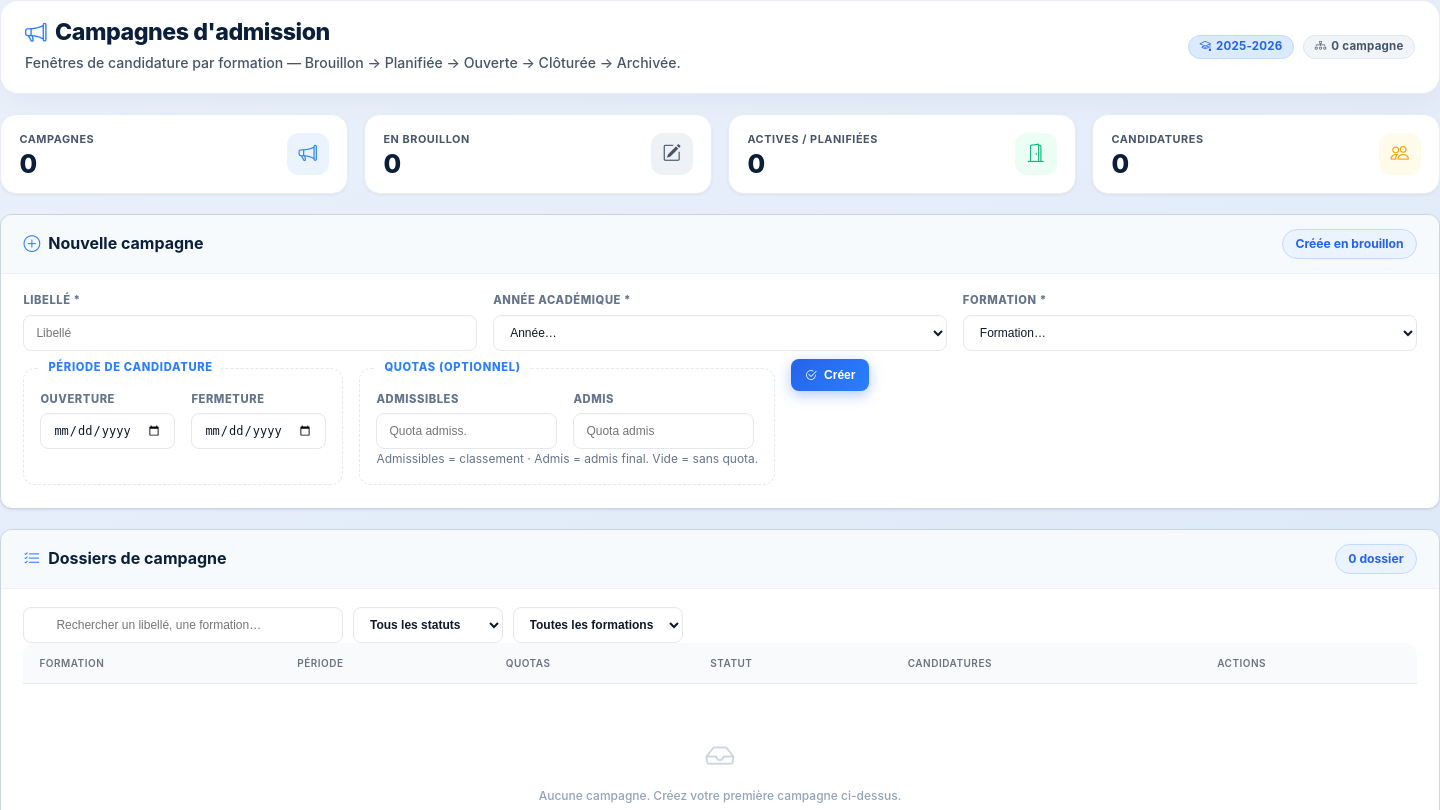
Test: Campagnes — création en brouillon › sur erreur serveur, notifie et conserve le libellé saisi
Type "Doublon" into the field with placeholder "Libellé" at (250,333), box [23,315,477,351]
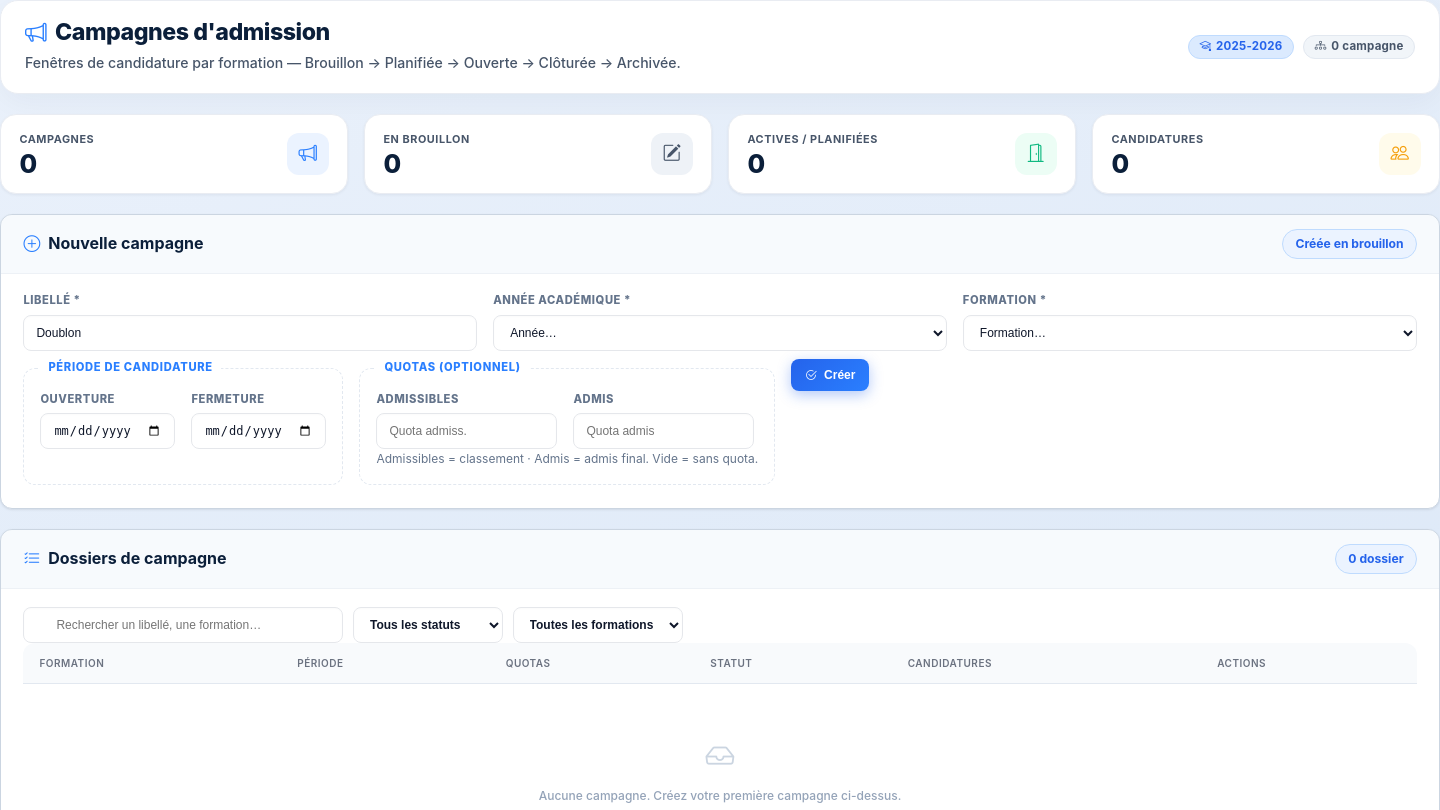
Select "2025-2026" in the dropdown labelled "Année académique *" at (720,333), box [493,315,947,351]
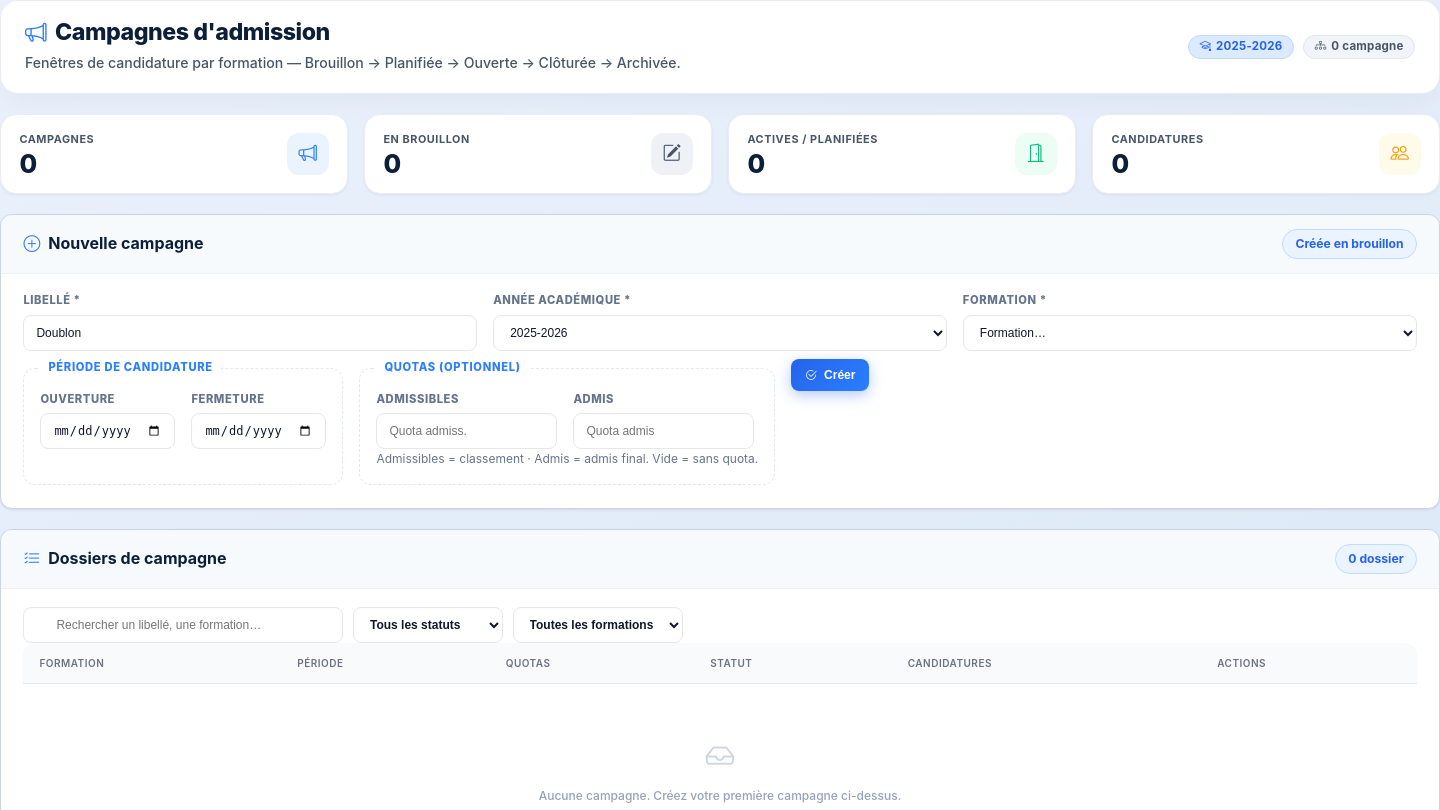
Select "L1 LSF" in the dropdown labelled "Formation *" at (1190,333), box [963,315,1417,351]
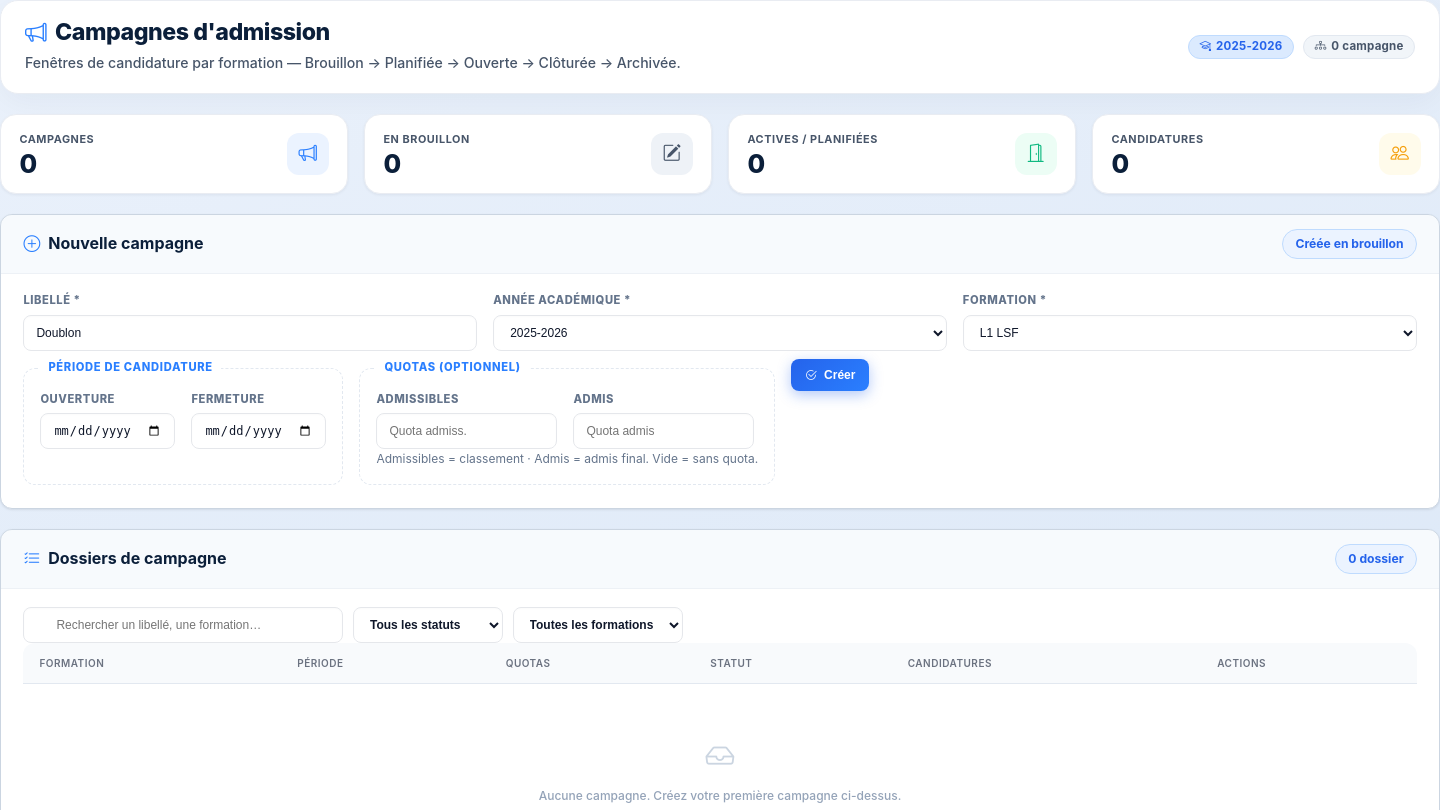
Click the button "Créer" at (830,375), box [791,359,869,391]
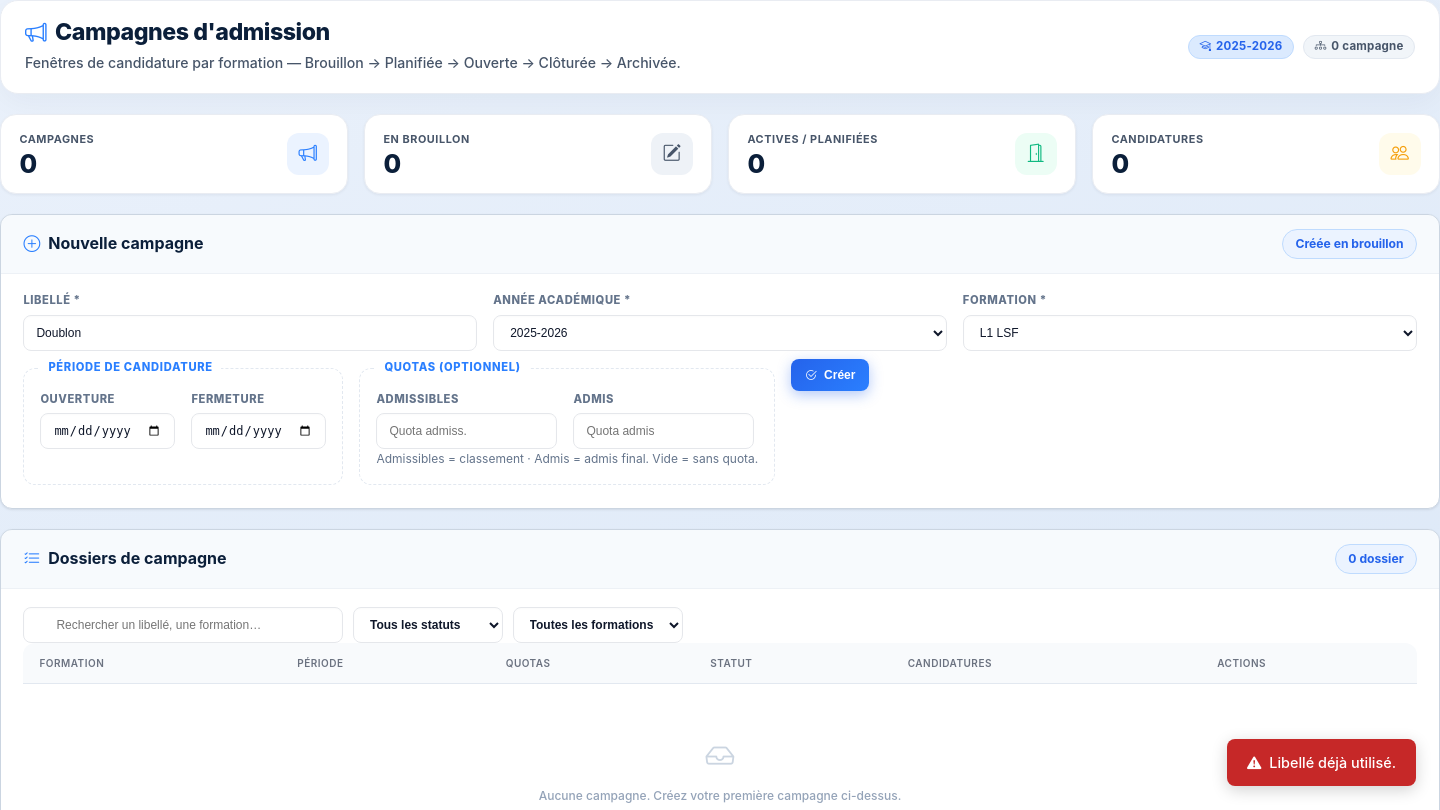
Check: the text "Libellé déjà utilisé." is shown, box [1227,739,1416,786]
